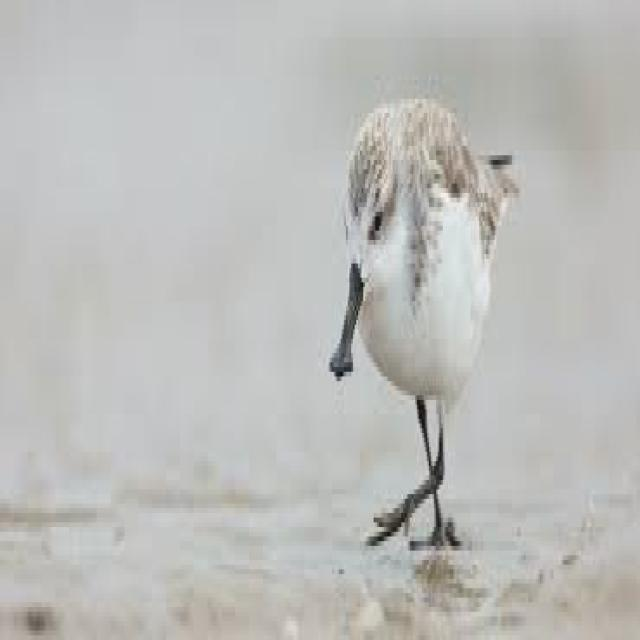Sandpiper: (331, 98, 508, 564)
